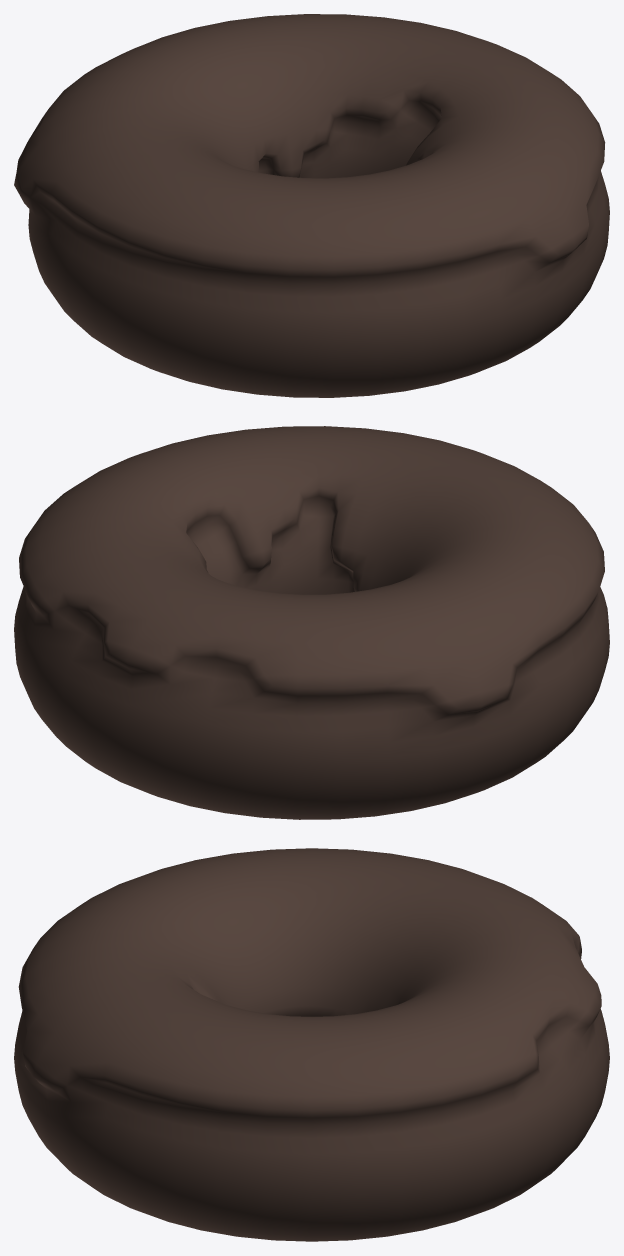
The model's file is donados.obj.
3 renders of one model, top to bottom at view 1: azimuth 30°, elevation 25°; view 2: azimuth 150°, elevation 25°; view 3: azimuth 270°, elevation 25°, orthographic. The views are drawn at different scales.
Parts seen in each view (by area): view 1: pTorus1; view 2: pTorus1; view 3: pTorus1.
Part boxes in pixels (x1,y1,x2,y2): pTorus1: (14,14,609,397); pTorus1: (14,426,609,819); pTorus1: (14,848,609,1241).
Size of the model in its own units: 2.95 by 1.12 by 2.95.
